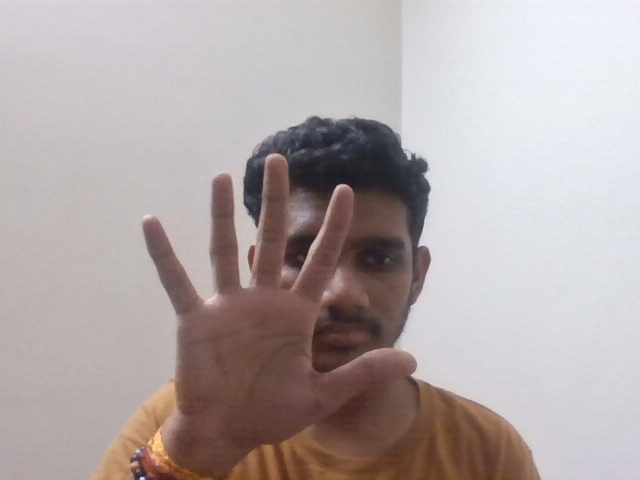hello: (113, 146, 414, 441)
